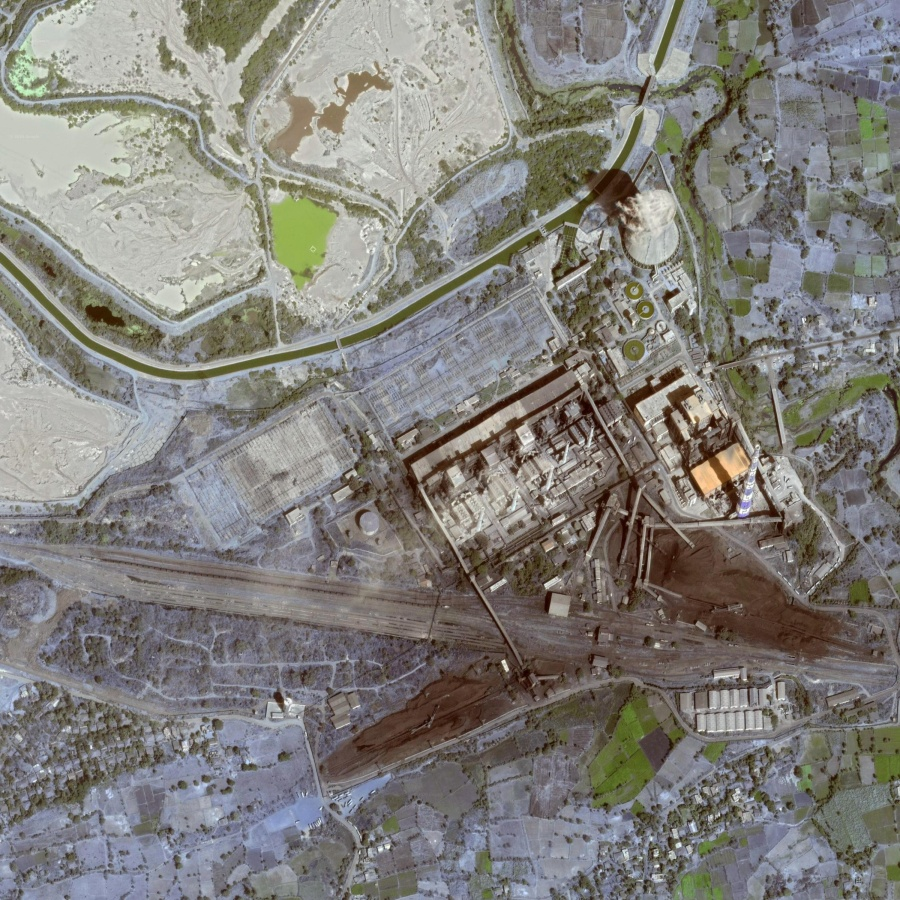PowerPlant: (318, 190, 872, 779)
